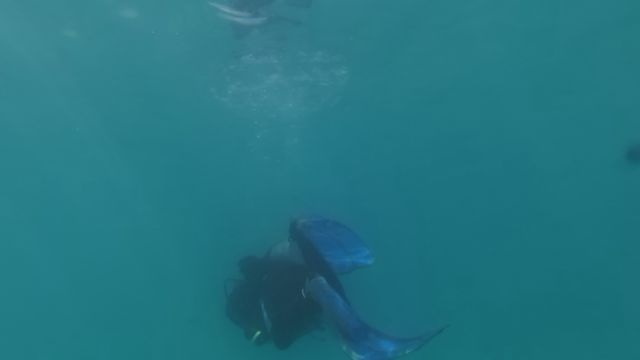Diver: (210, 211, 448, 358)
